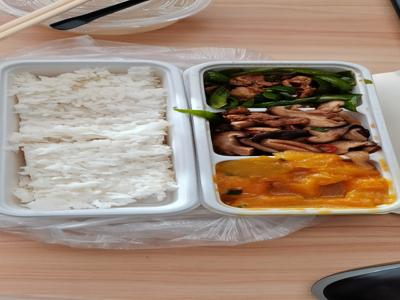cqj: (205, 65, 364, 110)
rice: (9, 71, 181, 215)
